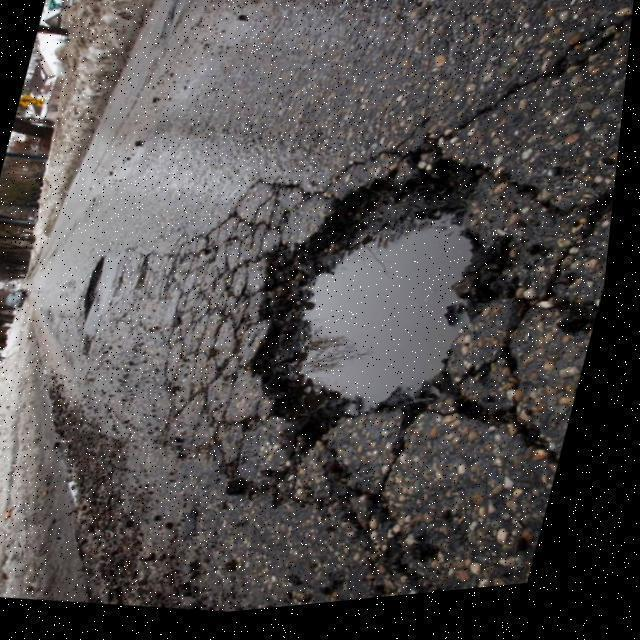Pothole: (237, 139, 540, 488)
